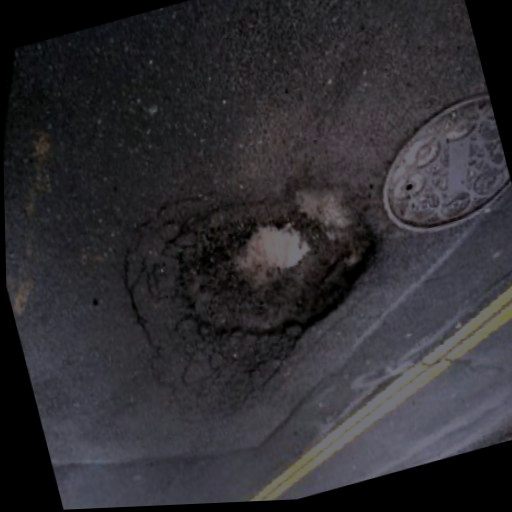pothole: (158, 169, 395, 369)
